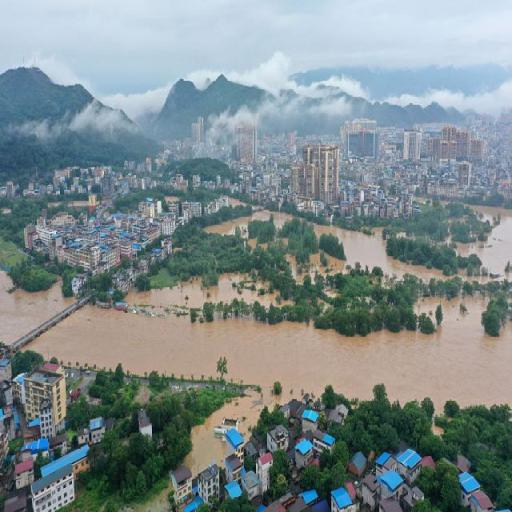flood: (26, 274, 512, 474), (316, 227, 442, 280), (0, 272, 72, 344), (458, 209, 512, 280), (207, 212, 270, 234), (135, 492, 167, 512), (274, 213, 292, 224)
house: (22, 222, 156, 268), (30, 454, 80, 512), (291, 144, 339, 202), (171, 459, 223, 510), (26, 367, 65, 428), (344, 185, 402, 217), (433, 128, 485, 163), (456, 468, 494, 510), (375, 468, 405, 510), (233, 126, 262, 166), (396, 446, 428, 481), (254, 450, 274, 496), (264, 422, 290, 454), (293, 438, 317, 470), (327, 485, 354, 512), (93, 169, 129, 189), (14, 455, 35, 488), (360, 474, 378, 510), (70, 447, 92, 476), (224, 454, 246, 482), (346, 448, 368, 475), (403, 129, 422, 159), (88, 415, 105, 445), (12, 371, 27, 404), (300, 406, 322, 428), (328, 402, 348, 426), (135, 409, 155, 433), (226, 428, 244, 454), (0, 358, 13, 382), (317, 433, 337, 447), (300, 490, 318, 504)
